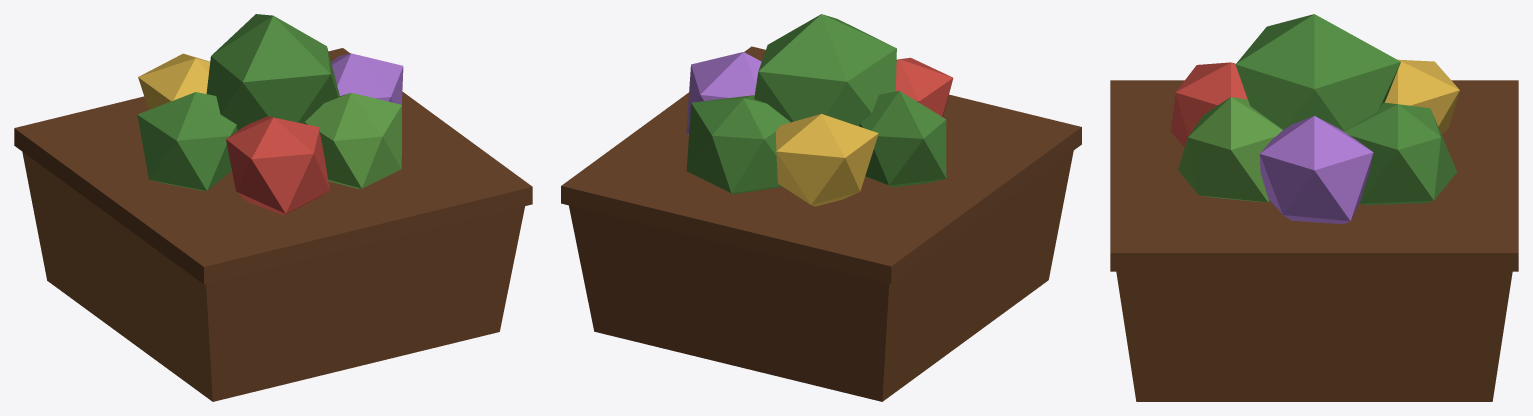
File: Planter.glb
3 views of the same model, side by side, from view 1: azimuth 30°, elevation 25°; view 2: azimuth 150°, elevation 25°; view 3: azimuth 270°, elevation 25° (orthographic). The views are drawn at different scales.
Parts seen in each view (by area): view 1: Body; view 2: Body; view 3: Body.
Part boxes in pixels (<box>): Body: <box>14,14,532,401</box>; Body: <box>561,14,1081,401</box>; Body: <box>1110,14,1518,401</box>.
Size of the model in its own units: 2.75 by 2.32 by 2.75.
